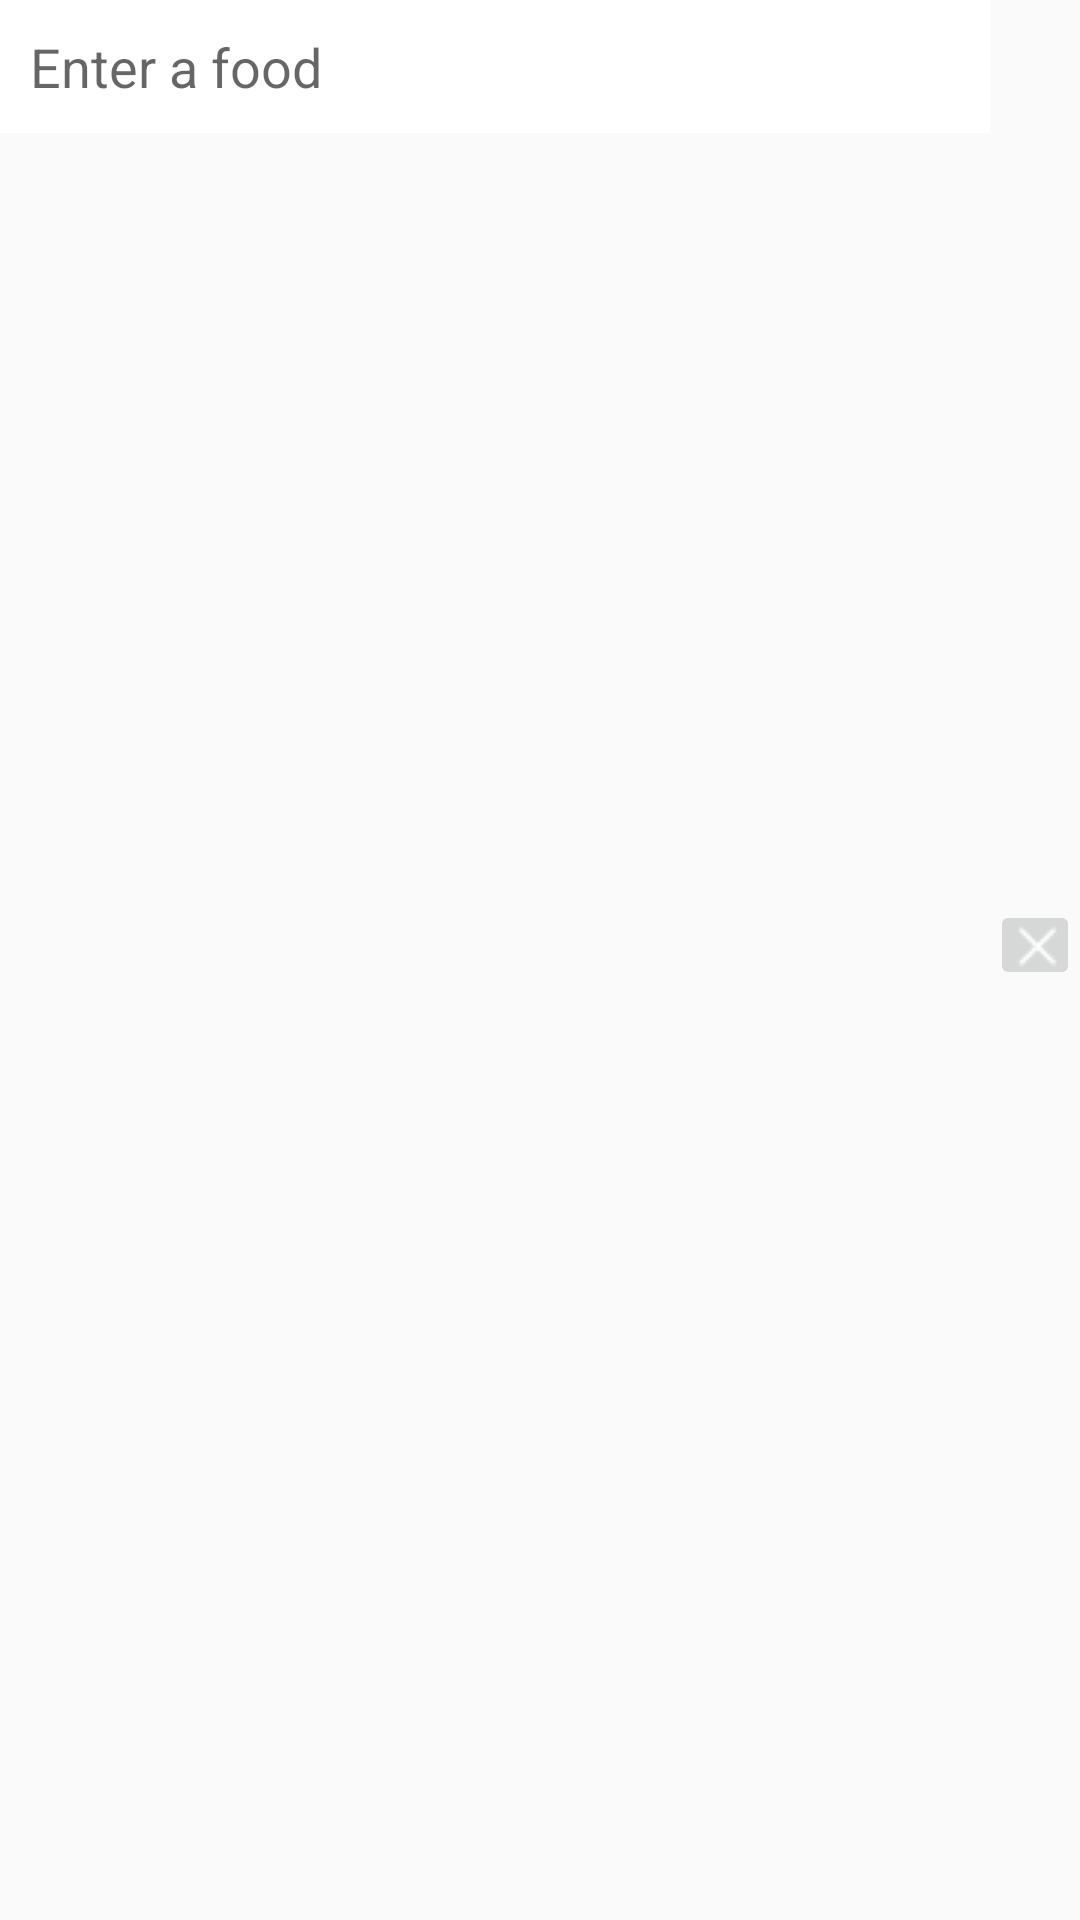

Named icons in this screenshot (1080×1920) and their centers, (x,y):
whiteexit: (1035,945)
